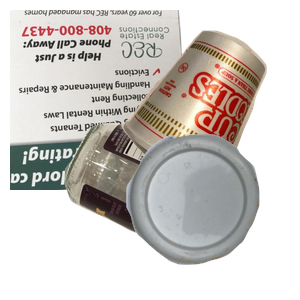glass: (62, 120, 300, 300)
paper: (10, 10, 201, 190)
plastic: (124, 132, 300, 300)
trash: (119, 28, 300, 207)
